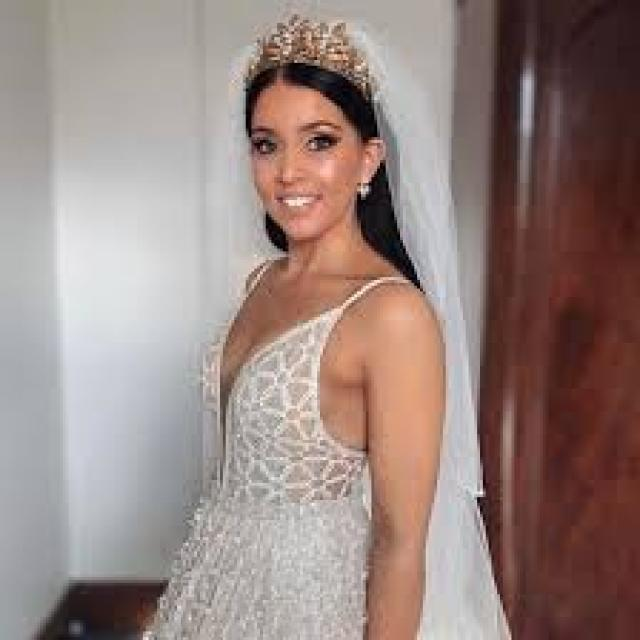Earring: (352, 180, 380, 204)
